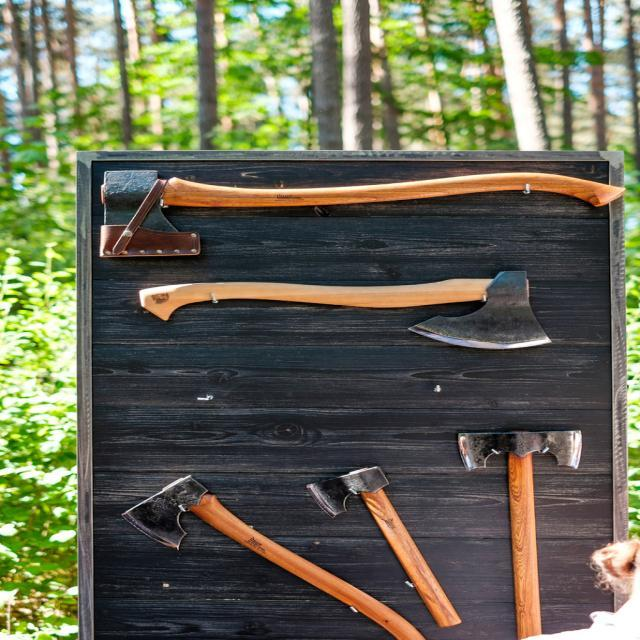Axe: (122, 475, 425, 640), (100, 170, 624, 257), (139, 271, 550, 349), (458, 430, 582, 638), (308, 468, 461, 627)
